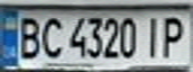0: (118, 15, 142, 60)
2: (103, 13, 124, 60)
3: (84, 13, 106, 60)
4: (66, 14, 87, 58)
B: (12, 14, 45, 61)
C: (36, 14, 66, 58)
I: (139, 14, 166, 58)
P: (157, 12, 190, 59)
